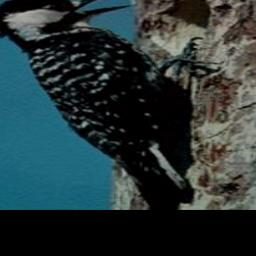Woodpecker: (0, 0, 224, 208)
